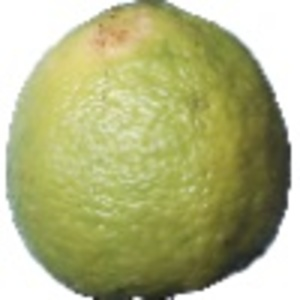limão: (6, 1, 290, 300)
